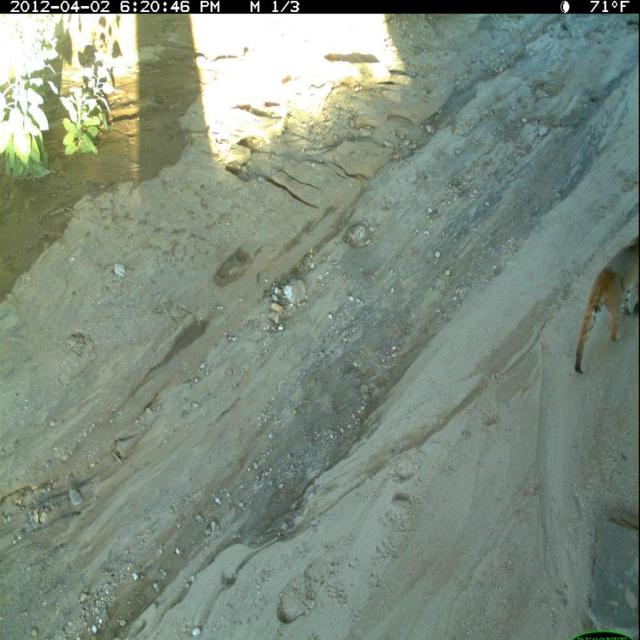bobcat: (572, 234, 638, 380)
